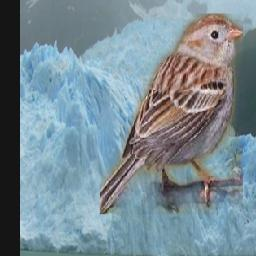Sparrow: (101, 15, 244, 215)
